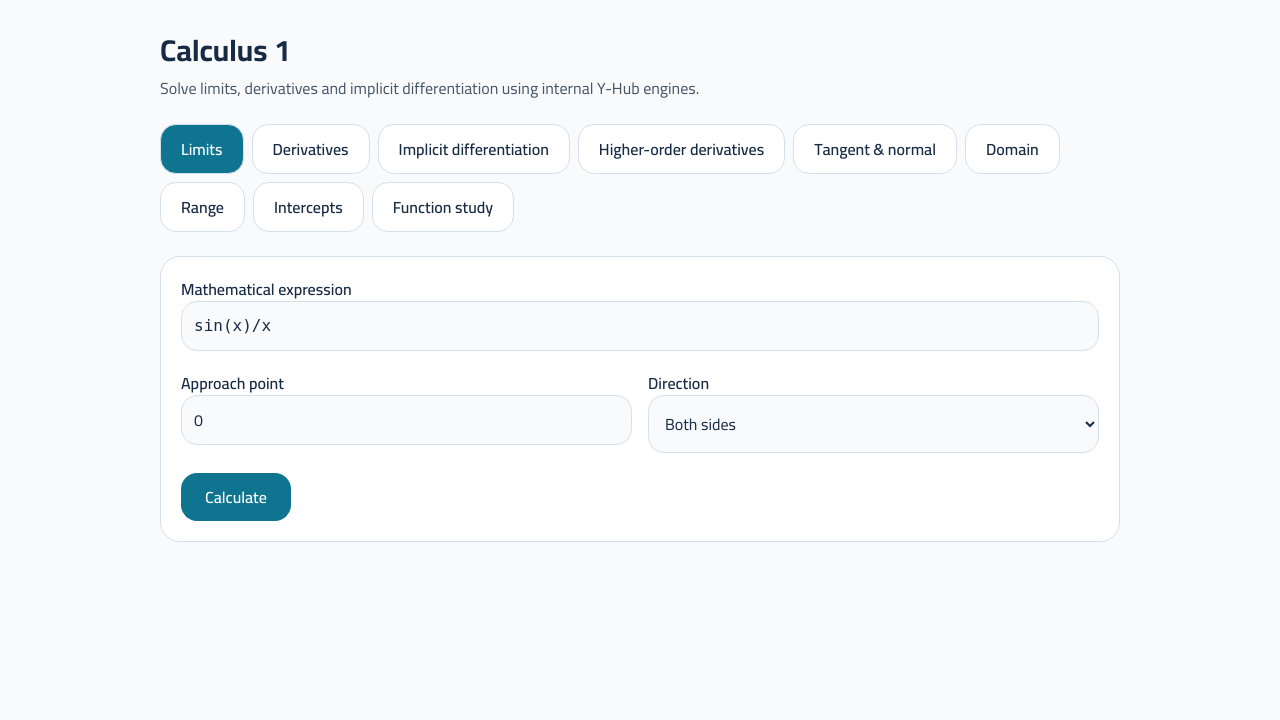
Test case: Calculus 1 function study UI › displays exact cubic extrema in the verified section
The width and height of the screenshot is (1280, 720).
Click the tab "Function study" at x=443, y=207, box top-left (372, 182), bottom-right (514, 232)
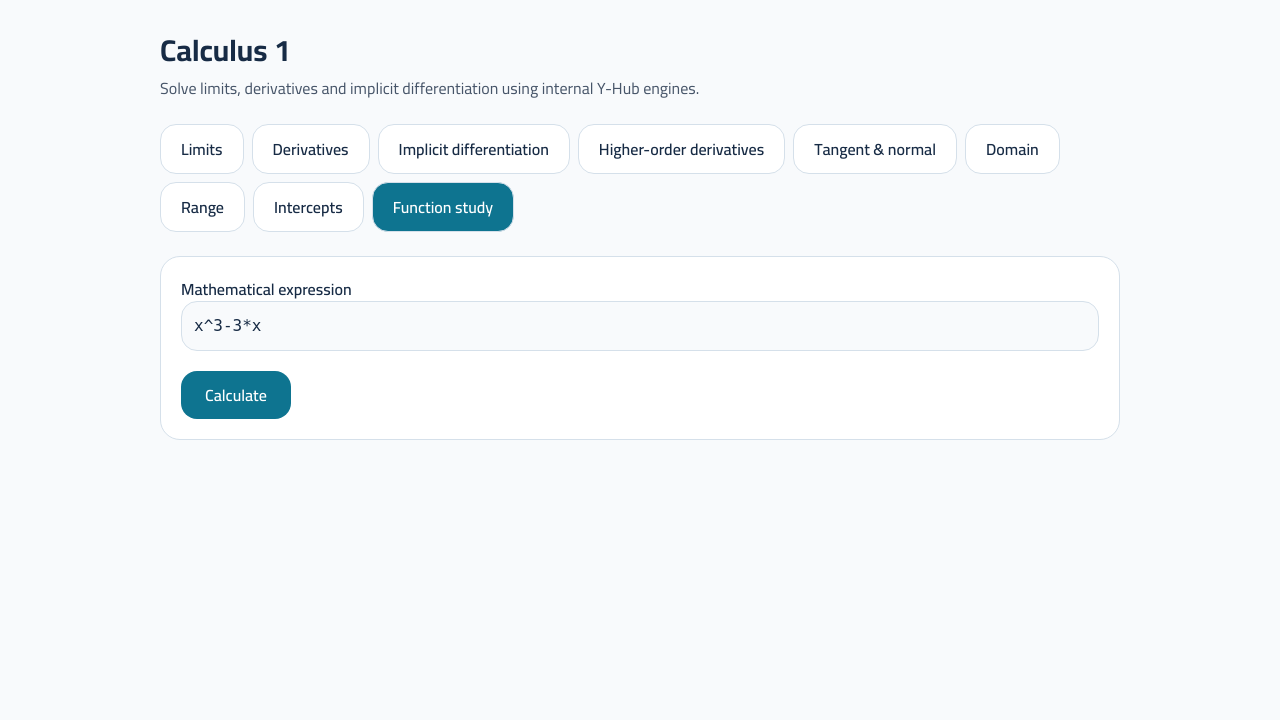
Click the button "Calculate" at x=236, y=395, box top-left (181, 371), bottom-right (291, 419)
(page scrolled)
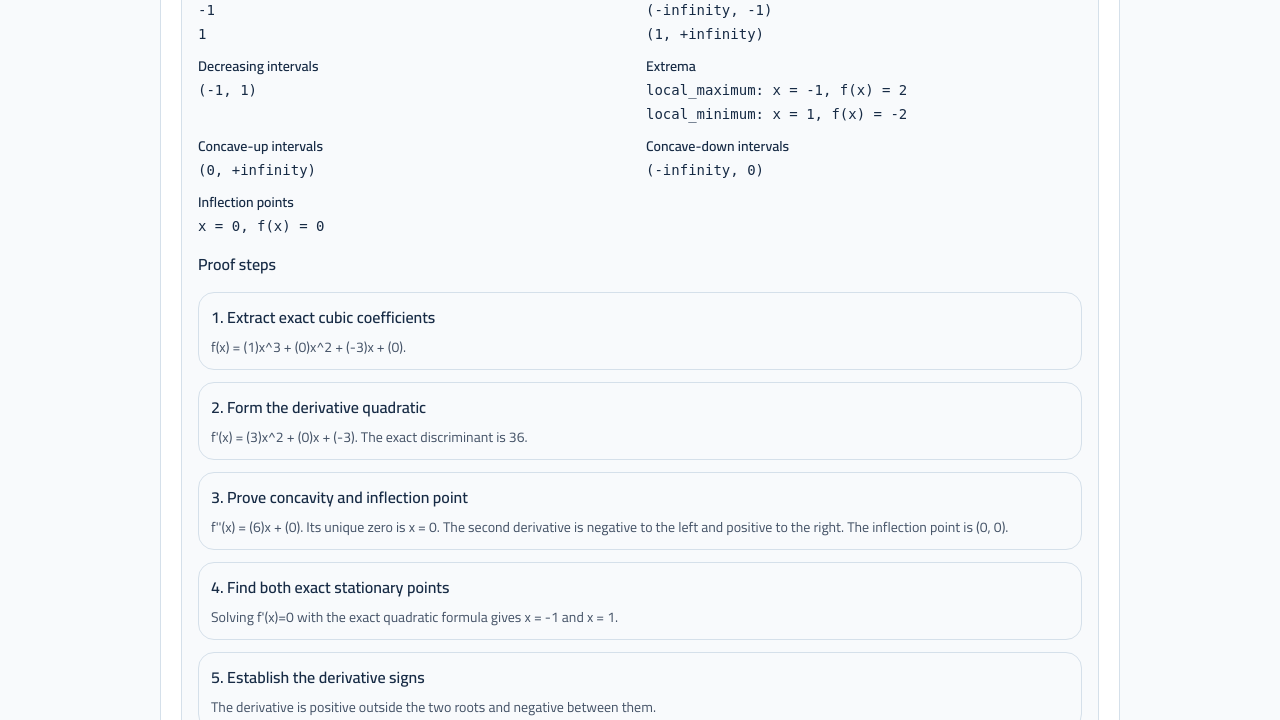
Check: the element named "Verified monotonicity proof" shows "local_maximum: x = -1, f(x) = 2", box top-left (646, 82), bottom-right (907, 98)
Check: the element named "Verified monotonicity proof" shows "local_minimum: x = 1, f(x) = -2", box top-left (646, 106), bottom-right (907, 122)
Check: the element named "Verified monotonicity proof" shows "Inflection points", box top-left (198, 189), bottom-right (294, 215)
